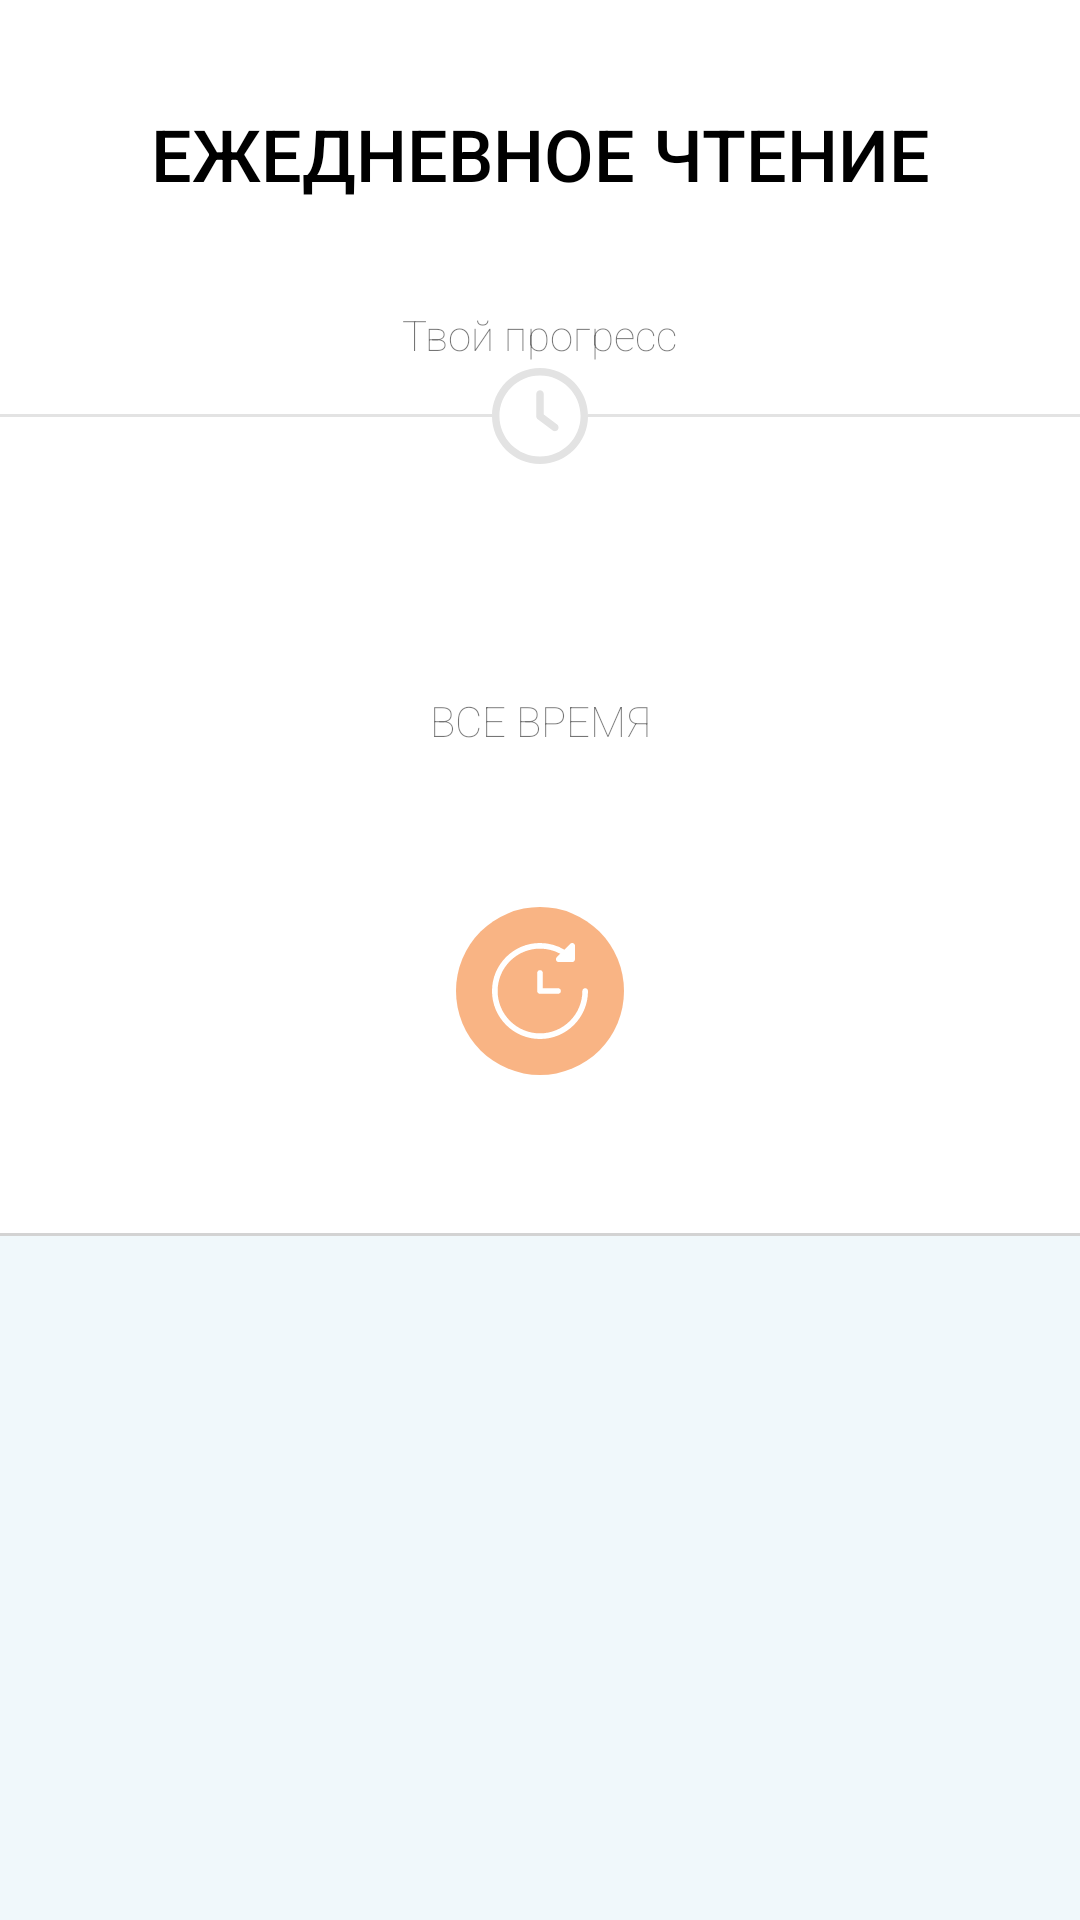

Point at icon controls on the screen. Image size 1080px x 1920px, points as (x=x, y=y).
clock: (x=540, y=416)
future: (x=540, y=991)
